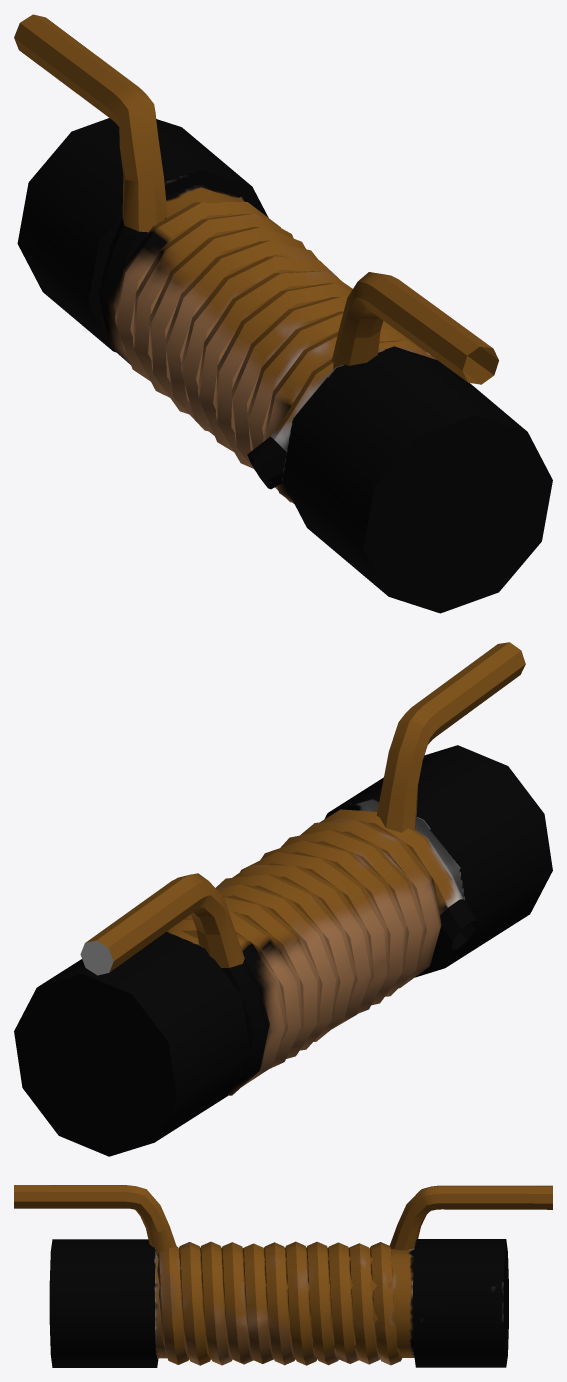
The model's file is Solenoid.fbx.
3 views of the same model, one above another, from view 1: azimuth 30°, elevation 25°; view 2: azimuth 150°, elevation 25°; view 3: azimuth 270°, elevation 25° (orthographic). The views are drawn at different scales.
Visible parts, largest first — view 1: pCylinder1, polySurface1, polySurface2; view 2: pCylinder1, polySurface1, polySurface2; view 3: polySurface1, pCylinder1, polySurface2.
Part boxes in pixels (x1,y1,x2,y2): pCylinder1: [17, 118, 552, 613]; polySurface1: [14, 14, 436, 503]; polySurface2: [331, 272, 498, 384]; pCylinder1: [14, 745, 552, 1156]; polySurface1: [80, 809, 477, 1095]; polySurface2: [376, 642, 525, 832]; polySurface1: [157, 1185, 552, 1365]; pCylinder1: [49, 1239, 508, 1367]; polySurface2: [14, 1185, 176, 1255].
Size of the model in its own units: 6.17 by 7.4 by 20.9.
1 material, 1 textured.
